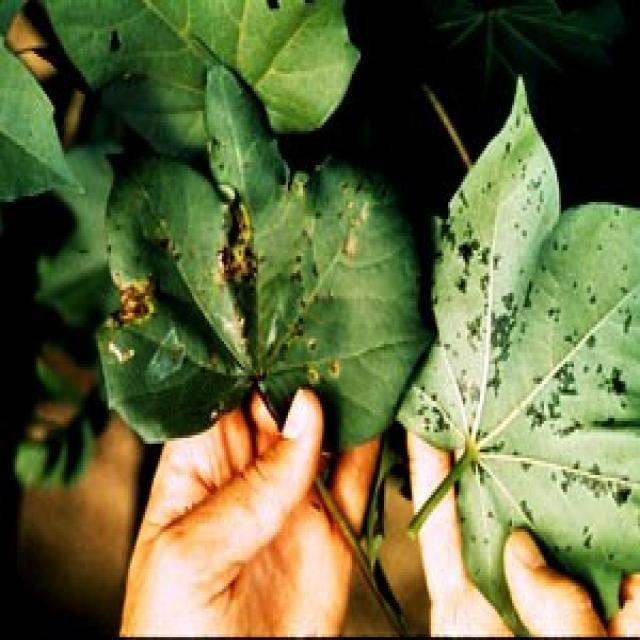Bacterial Blight: (131, 163, 331, 395)
